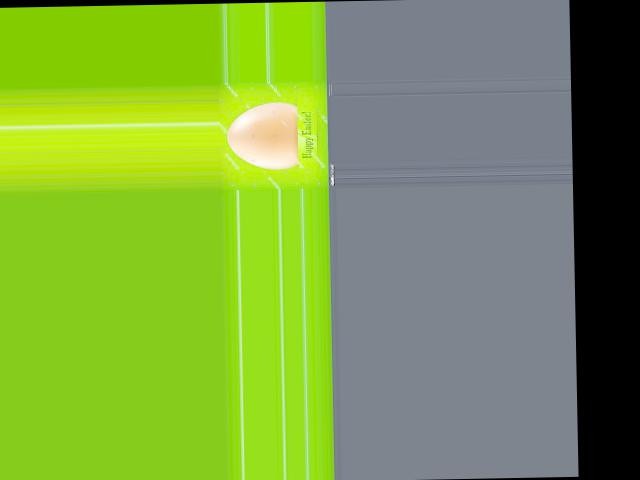egg: (226, 101, 298, 169)
